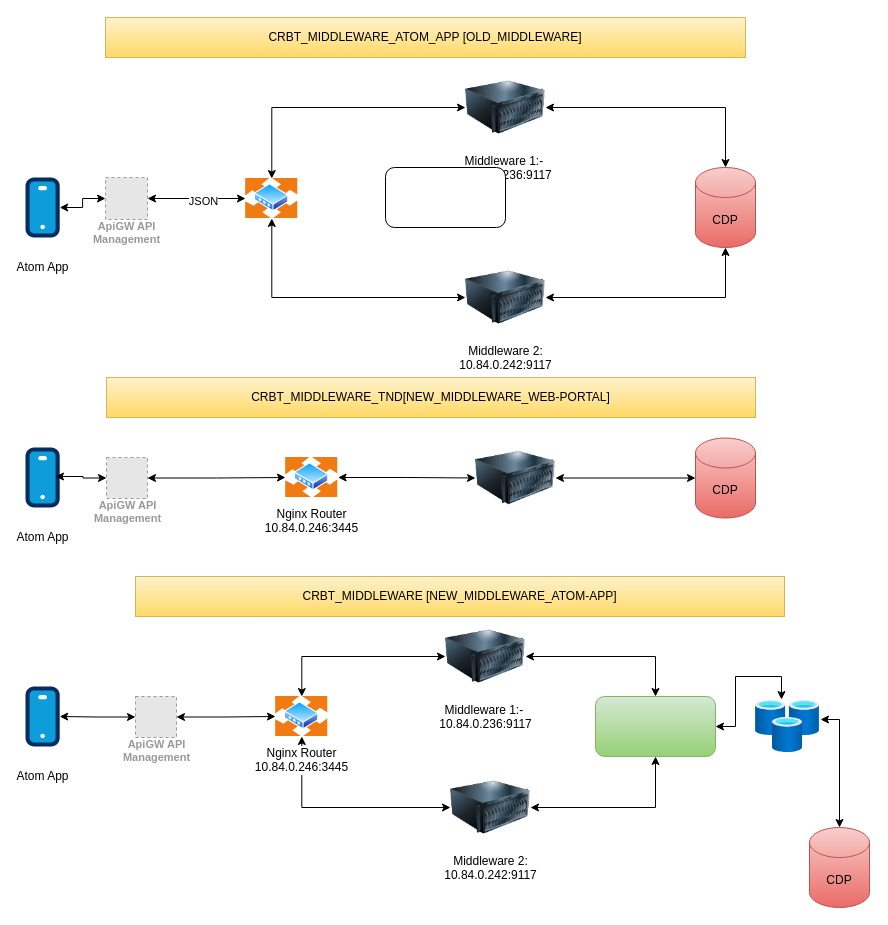
Some shapes in this 888 by 925 pixel diagram are drawn without their labels. Grey dashed boxes stand in for pictures. The centre of each missing label's shape, as x and y in pixels:
"Middleware :- 10.84.0.246:9117" goes at (515,478).
"Nginx Router 10.84.0.236:9000" goes at (271,198).
"solr cache" goes at (787,726).
"SOLR Module" goes at (655,726).
